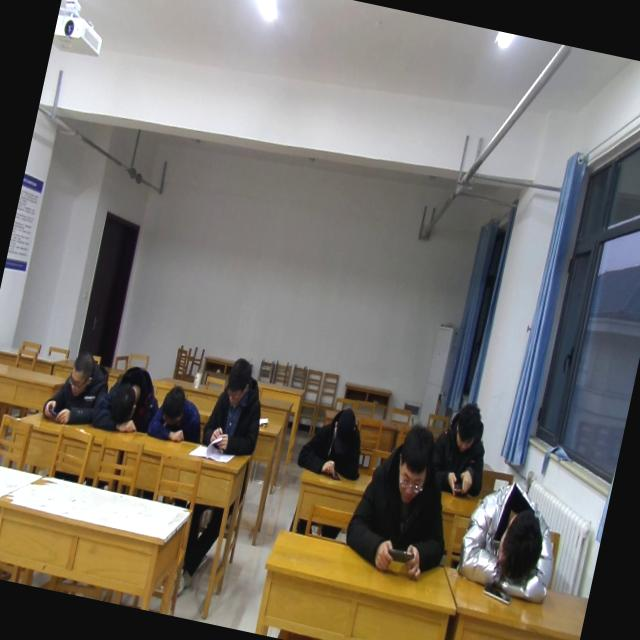bow: (452, 472, 574, 616), (36, 340, 118, 436), (90, 354, 167, 444), (294, 398, 372, 484), (142, 376, 212, 454)
down: (384, 418, 440, 512), (445, 395, 486, 457), (218, 347, 256, 412), (62, 343, 99, 399), (324, 400, 361, 453)
sit: (338, 409, 472, 590), (422, 390, 504, 508), (198, 350, 274, 461)
